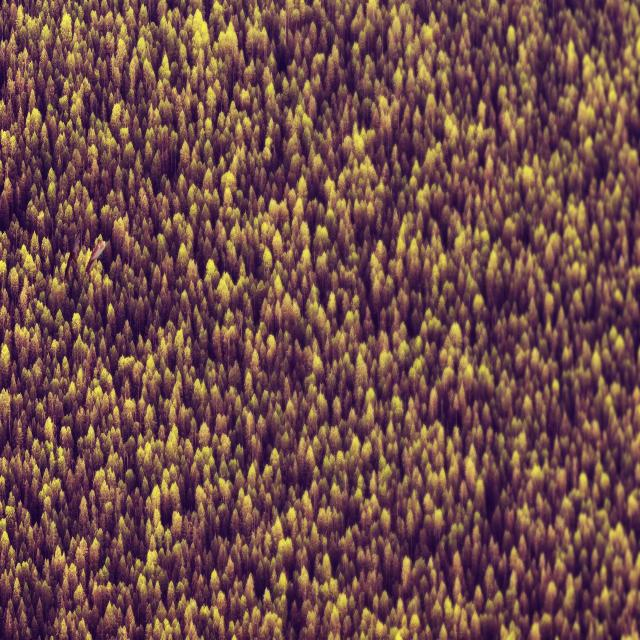airplane: (63, 228, 81, 288), (85, 238, 108, 274)
